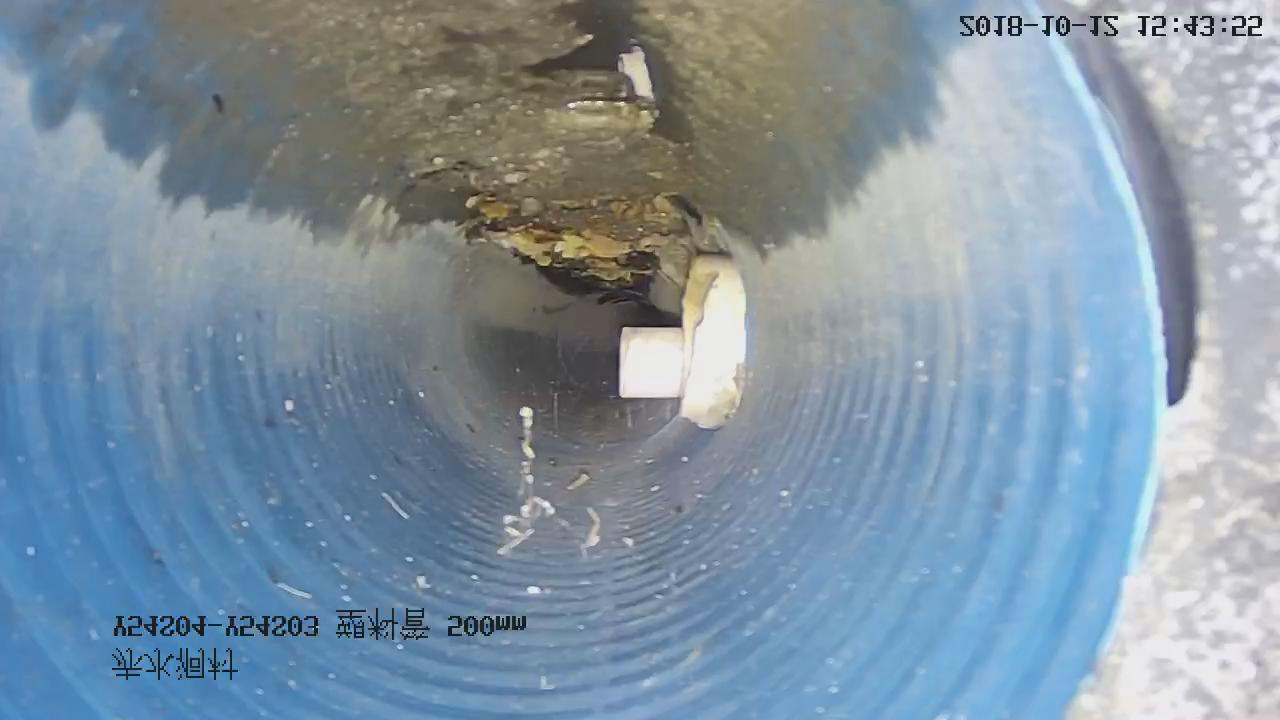CJ: (172, 1, 702, 298)
ZGAJ: (681, 254, 748, 430), (619, 328, 683, 398)
